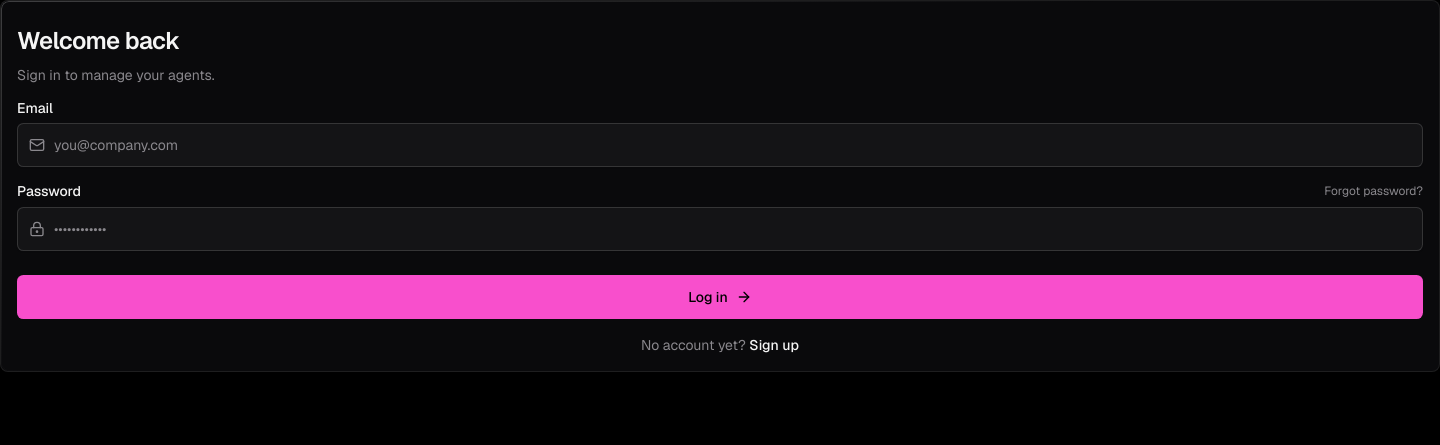
it: LoginPage › shows validation errors for an empty submission
Click the button "Log in". click: (720, 297)
box: [17,275,1423,319]
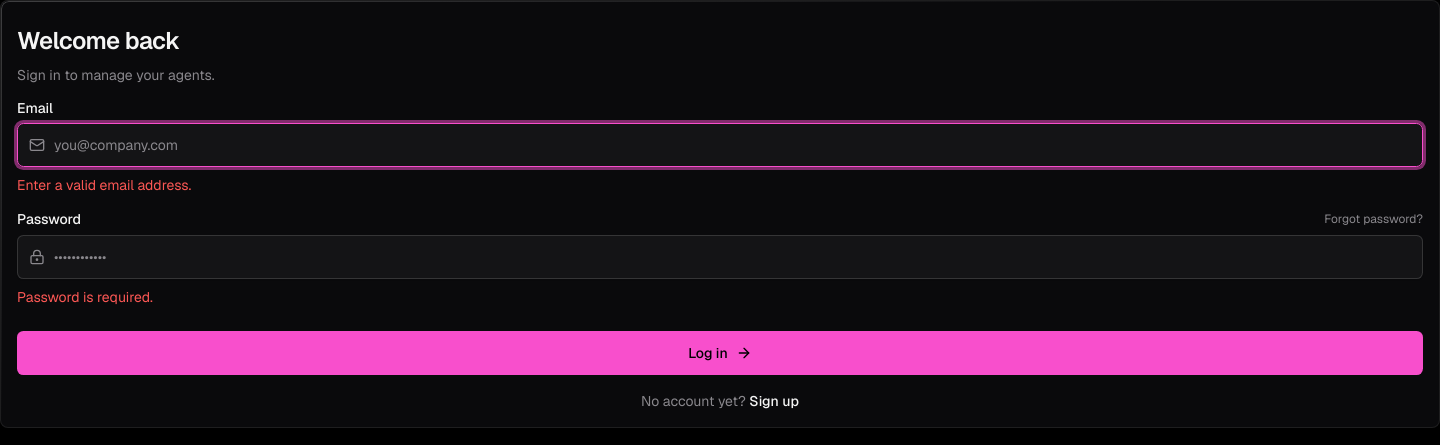
Expected: the text "Enter a valid email address." is shown, [17,176,191,194]
